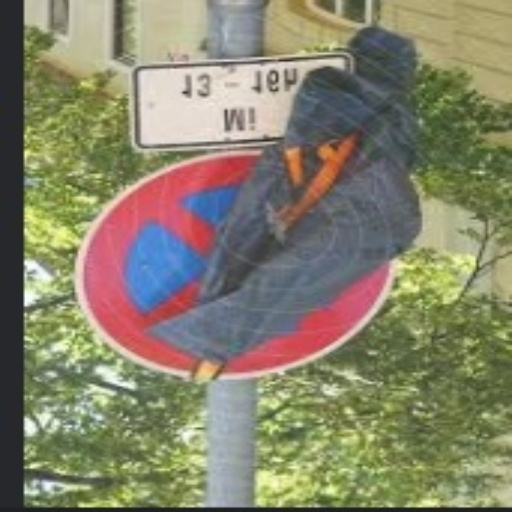No Stopping: (79, 51, 446, 388)
